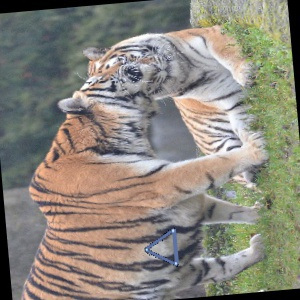triangle: (142, 226, 181, 268)
